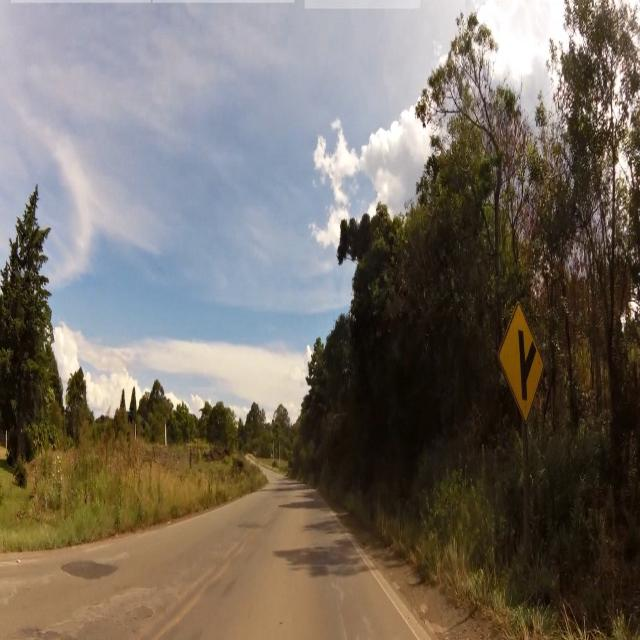A-10b: (500, 302, 548, 429)
